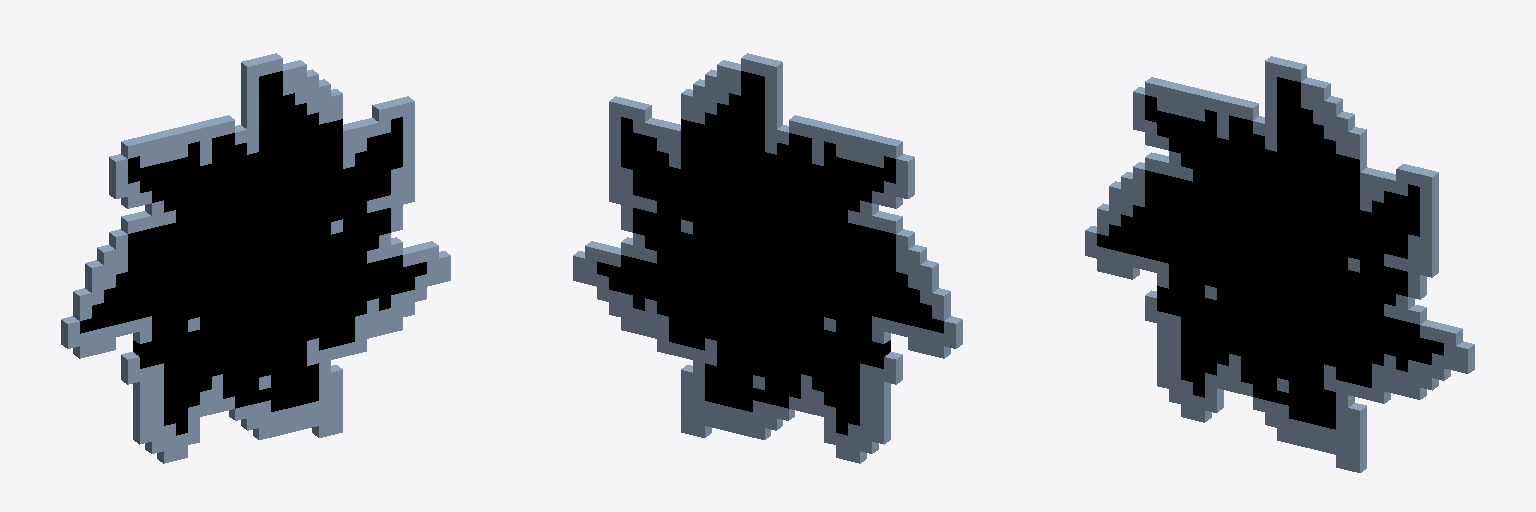
3 views of the same model, side by side, from view 1: azimuth 30°, elevation 25°; view 2: azimuth 150°, elevation 25°; view 3: azimuth 330°, elevation 25° (orthographic).
Size of the model in its own units: 32 by 31 by 1.
1 materials, 1 textured.